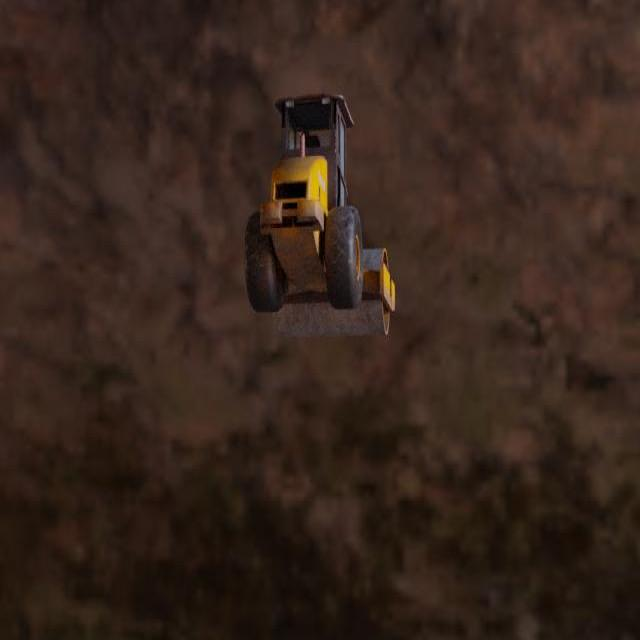Roller: (243, 92, 395, 337)
